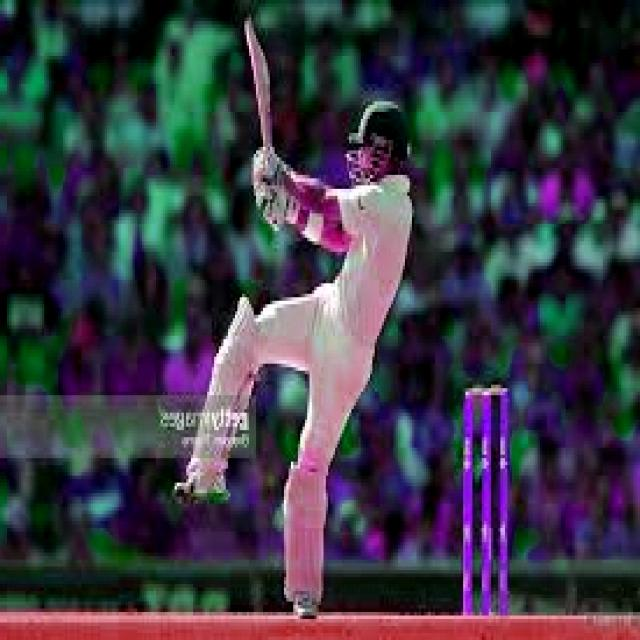toe: (235, 17, 270, 62)
